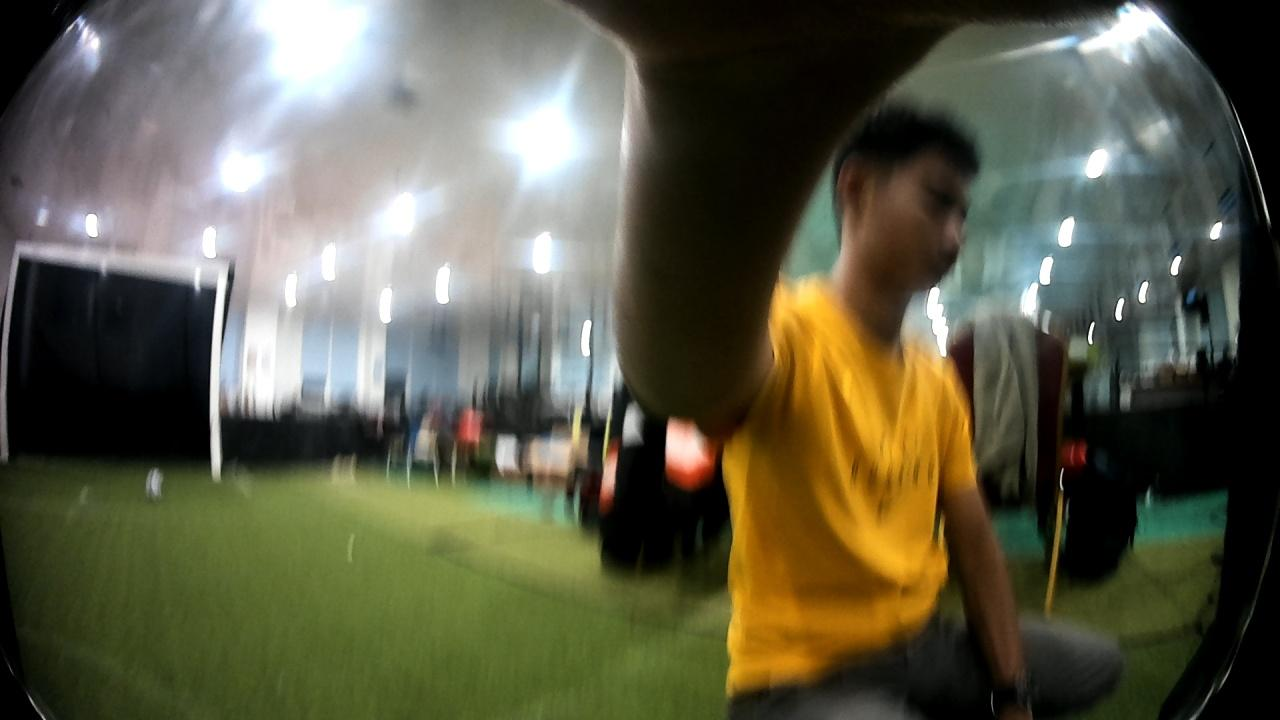ball: (142, 468, 171, 508)
